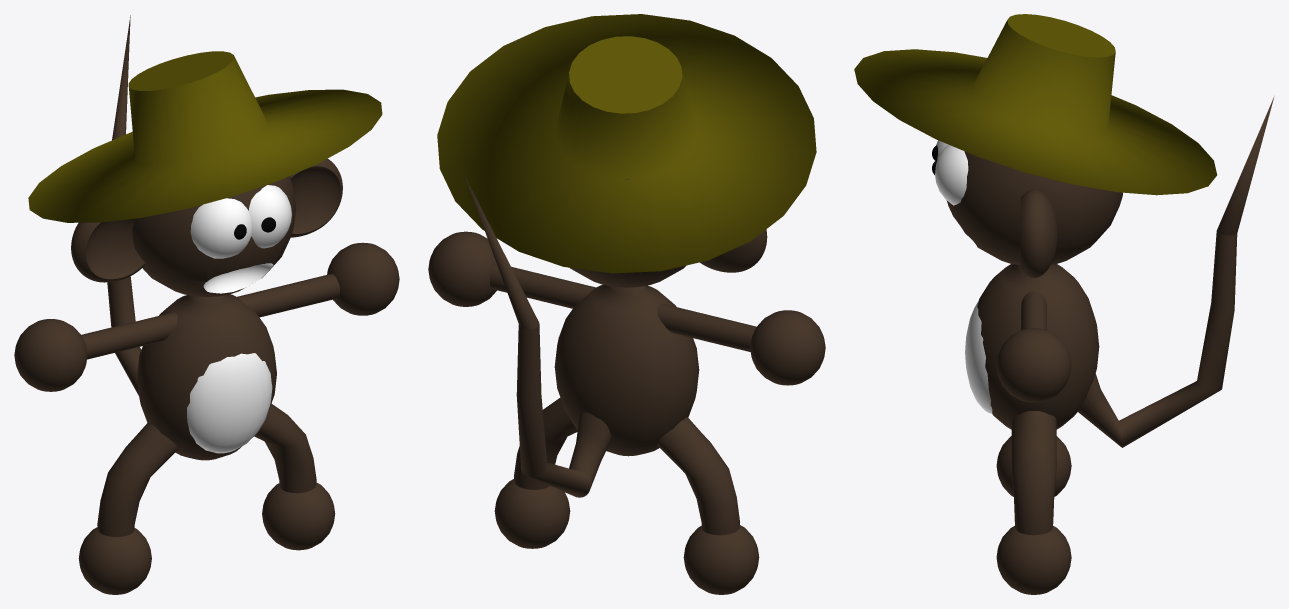
File: Monkey_Placeholder.FBX
3 renders of one model, left to right at view 1: azimuth 30°, elevation 25°; view 2: azimuth 150°, elevation 25°; view 3: azimuth 270°, elevation 25°, orthographic. The views are drawn at different scales.
Visible parts, largest first — view 1: Body; view 2: Body; view 3: Body.
Boxes of the visible parts, bbox=[...] form: Body: bbox=[14, 15, 399, 594]; Body: bbox=[428, 14, 825, 594]; Body: bbox=[854, 14, 1274, 594].
Bounding box in the file's own units: 5.92 × 7.63 × 5.6.
